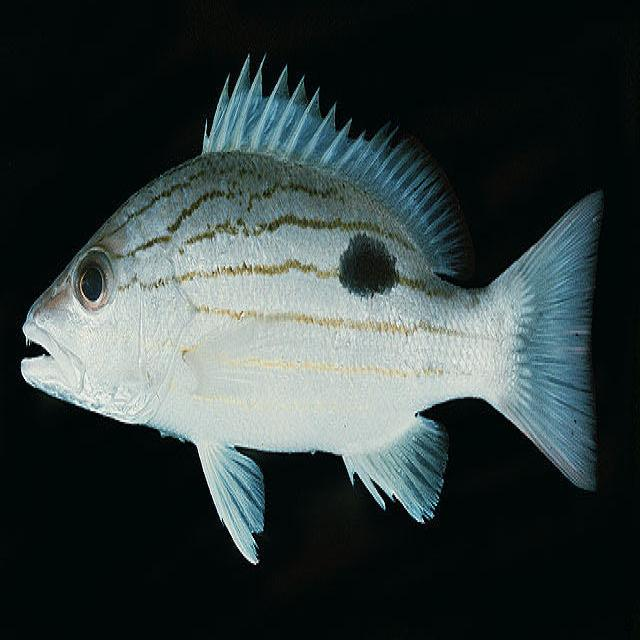ikan: (19, 48, 605, 565)
